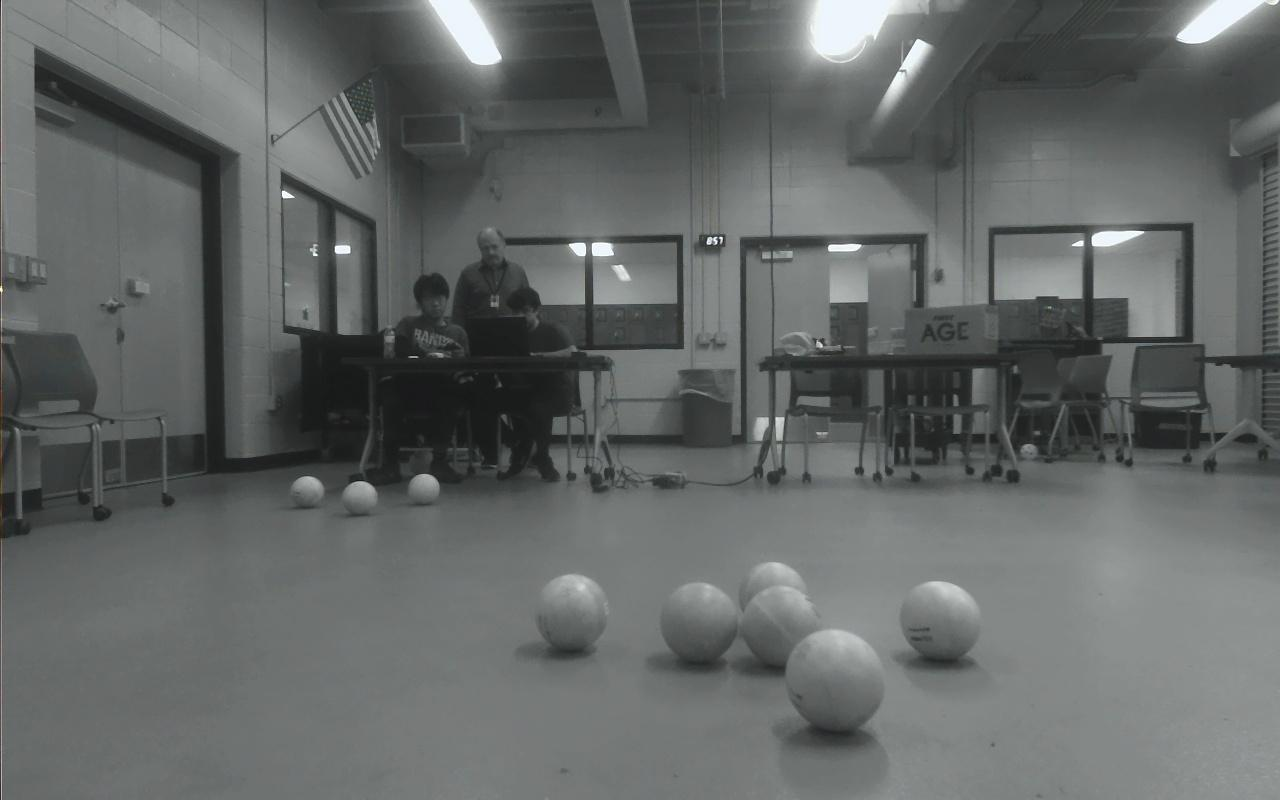Fuel: (785, 628, 886, 733), (899, 580, 982, 662), (741, 585, 822, 667), (659, 582, 737, 664), (534, 572, 609, 653), (739, 562, 809, 617), (342, 480, 378, 516), (289, 476, 324, 509), (407, 473, 440, 505)
